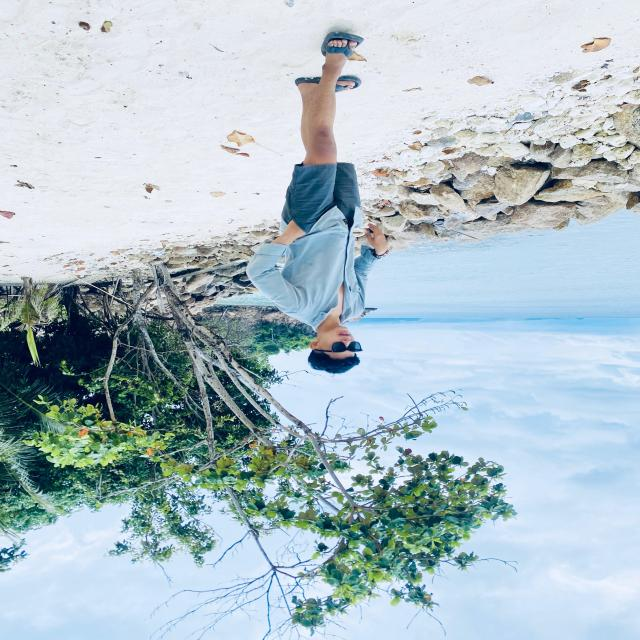nohelmet: (304, 322, 366, 376)
